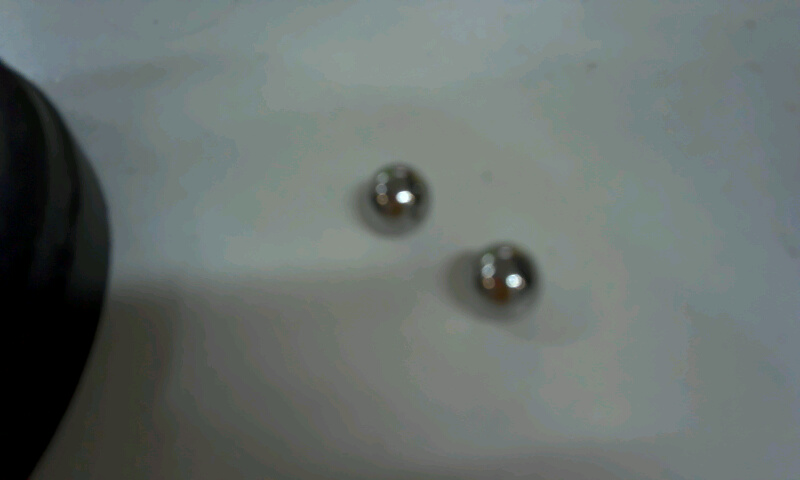steelball: (459, 234, 555, 332), (352, 158, 439, 244)
